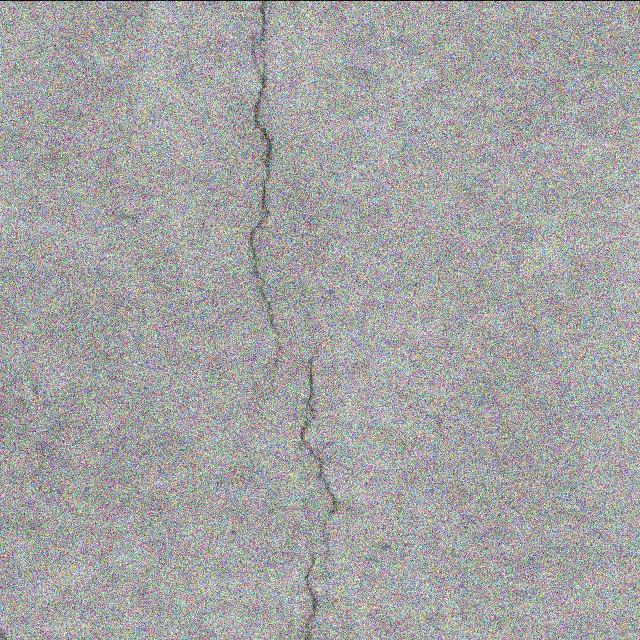SurfaceCrack: (200, 0, 392, 640)
